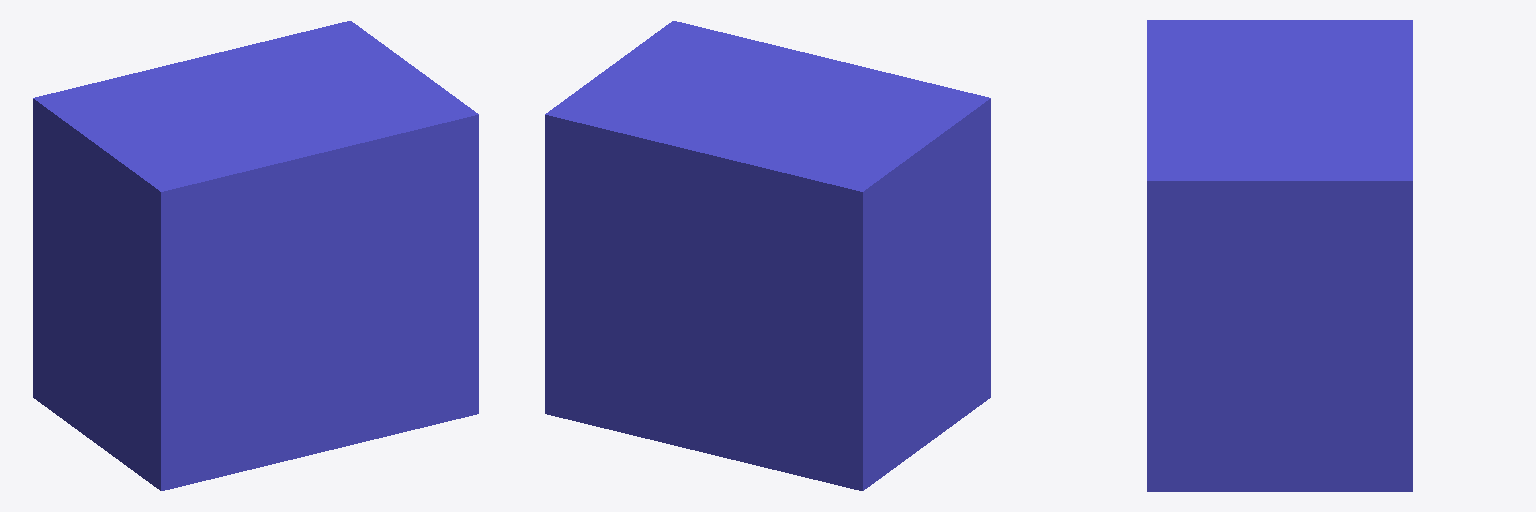
robot.urdf — bottle:
<?xml version="1.0"?>
<robot name="bottle">
    <link name="bottle_base_link">
        <contact>
            <lateral_friction value="1.0"/>
            <spinning_friction value="0.01"/>
            <rolling_friction value="0.01"/>
            <contact_cfm value="0.0"/>
            <contact_erp value="1.0"/>
        </contact>
        <inertial>
            <origin rpy="0 0 0" xyz="0 0 0"/>
            <mass value="0.1"/>
            <inertia ixx="1" ixy="0" ixz="0" iyy="1" iyz="0" izz="1"/>
        </inertial>
        <visual>
            <origin rpy="0 0 0" xyz="0.0 0.0 0.0"/>
            <geometry>
                <box size="0.10 0.07 0.09"/>
            </geometry>
            <material name="blockmat">
                <color rgba="0.4 0.4 0.9 0.9"/>
            </material>
        </visual>
        <collision>
            <origin rpy="0 0 0" xyz="0.0 0.0 0.0"/>
            <geometry>
                <box size="0.10 0.07 0.09"/>
            </geometry>
        </collision>
    </link>
</robot>

--- Render facts (derived) ---
3 views of the same robot in one strip: view 1: azimuth 30°, elevation 25°; view 2: azimuth 150°, elevation 25°; view 3: azimuth 270°, elevation 25° (orthographic).
Robot: bottle — 1 links, 0 joints (none); root link bottle_base_link; default pose: all joints at 0.
Links seen in each view (by area): view 1: bottle_base_link; view 2: bottle_base_link; view 3: bottle_base_link.
Boxes of the visible links, <box> form: bottle_base_link: <box>33,21,478,490</box>; bottle_base_link: <box>545,21,990,490</box>; bottle_base_link: <box>1147,20,1412,491</box>.
Size in the robot's own frame: 0.1 by 0.07 by 0.09 metres.
Geometry: primitives only (box / cylinder / sphere), no mesh files.